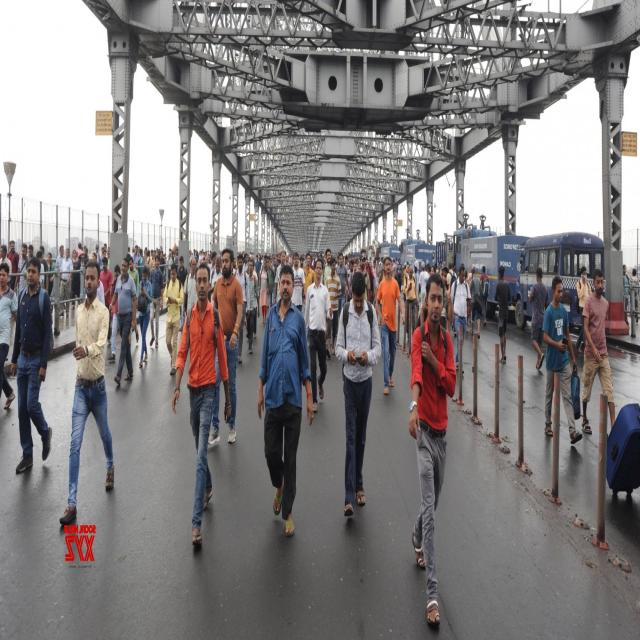adult: (407, 274, 456, 634), (172, 263, 230, 558), (57, 260, 114, 530), (255, 266, 313, 530), (340, 268, 381, 528), (14, 262, 50, 474), (208, 249, 240, 449), (543, 276, 581, 441), (582, 269, 614, 431), (305, 261, 331, 420), (110, 258, 136, 384), (378, 255, 400, 395), (451, 265, 471, 369), (166, 264, 183, 374), (530, 267, 548, 370), (136, 266, 152, 368), (326, 258, 342, 356), (496, 267, 511, 362), (149, 255, 163, 346), (246, 261, 260, 352), (404, 266, 418, 340), (290, 254, 305, 308), (337, 254, 350, 314)
